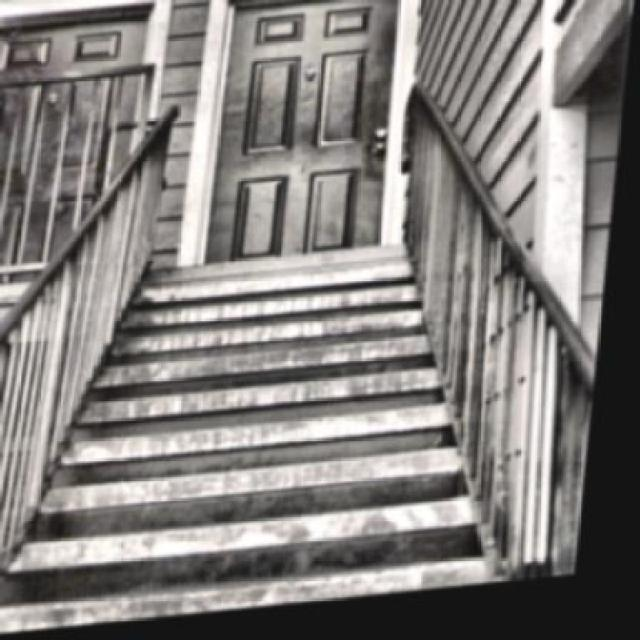stair: (80, 225, 425, 608)
